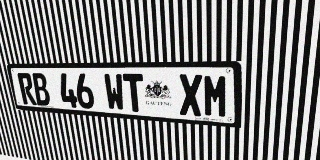4: (57, 73, 78, 108)
6: (74, 73, 95, 109)
B: (31, 73, 51, 106)
M: (203, 74, 229, 118)
R: (17, 73, 37, 105)
T: (123, 74, 146, 113)
W: (103, 73, 126, 111)
X: (178, 74, 203, 116)
